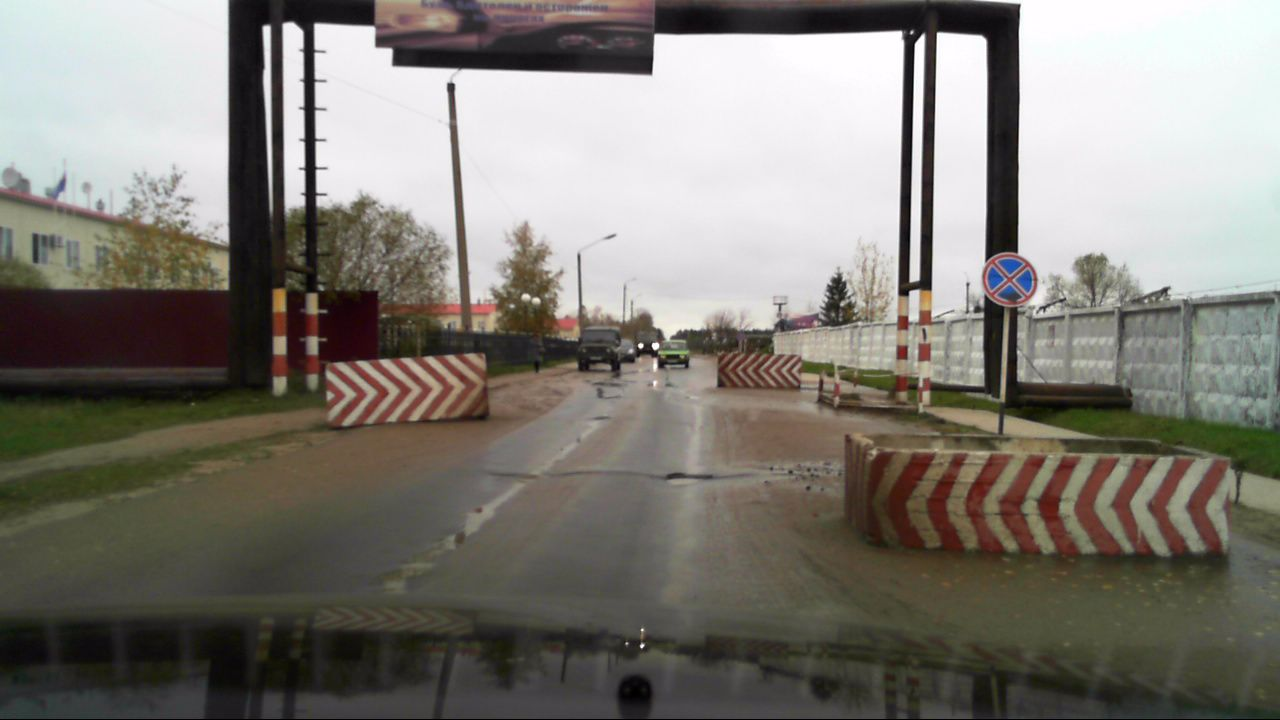No Parking: (980, 252, 1038, 307)
